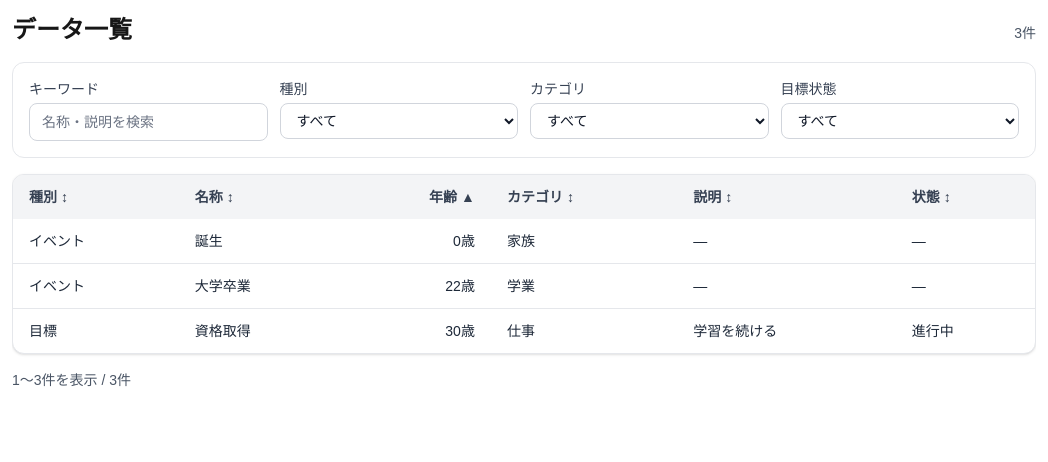
Test: LifeEventTable › 学業カテゴリでデータを絞り込む
This screenshot has width=1048, height=462.
Select "学業" in the dropdown labelled "カテゴリ" at (649, 121), box [530,103,768,139]
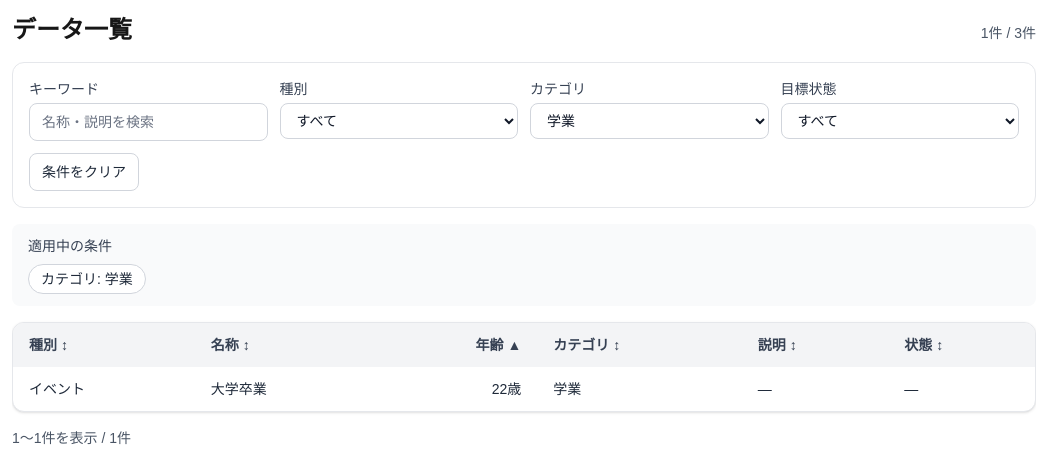
Expected: the text "1件 / 3件" is shown, [981,23,1036,43]
Expected: the text "資格取得" is gone
Expected: the text "誕生" is gone
